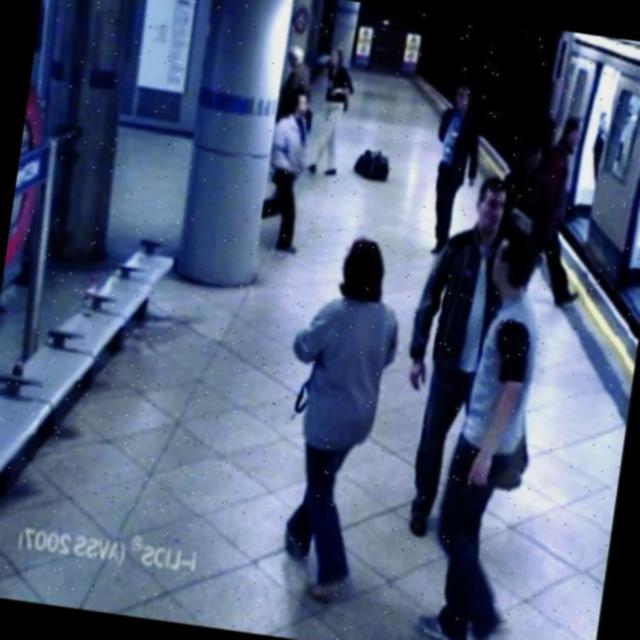person: (412, 224, 561, 640), (256, 227, 412, 608), (412, 80, 490, 260), (521, 112, 587, 298), (255, 81, 317, 252), (303, 42, 356, 182), (501, 137, 549, 232)
